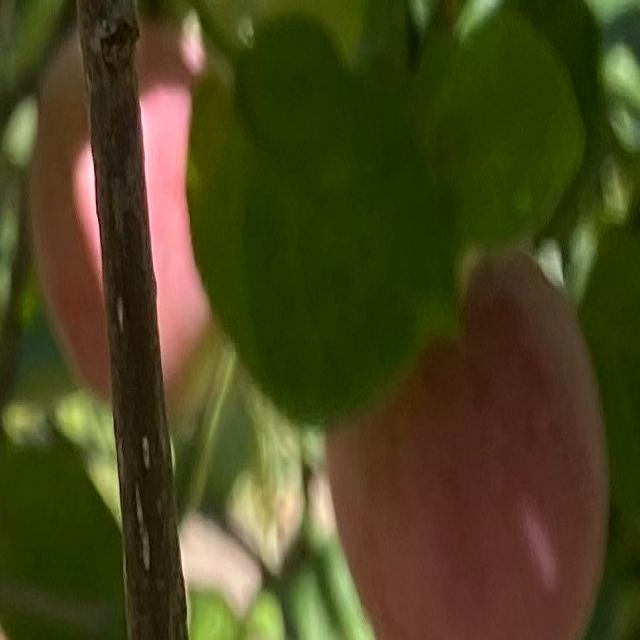100-_ripeness: (327, 259, 610, 640), (33, 29, 212, 398)
